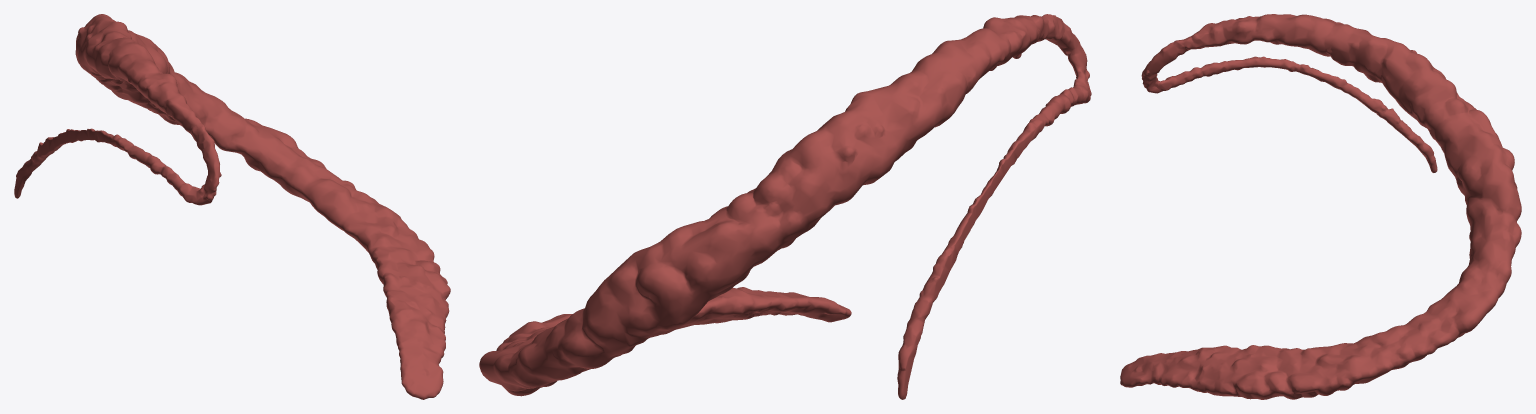
File: FMA274029.glb
The picture shows the model from 3 angles, left to right: view 1: azimuth 30°, elevation 25°; view 2: azimuth 150°, elevation 25°; view 3: azimuth 270°, elevation 25°; orthographic projection. The views are drawn at different scales.
Parts seen in each view (by area): view 1: FMA274029; view 2: FMA274029; view 3: FMA274029.
Boxes of the visible parts, box(x1,y1,x2,y2) form: FMA274029: box(14, 14, 450, 399); FMA274029: box(479, 14, 1091, 399); FMA274029: box(1120, 14, 1521, 399).
Bounding box in the file's own units: 0.0353 × 0.0321 × 0.041.
